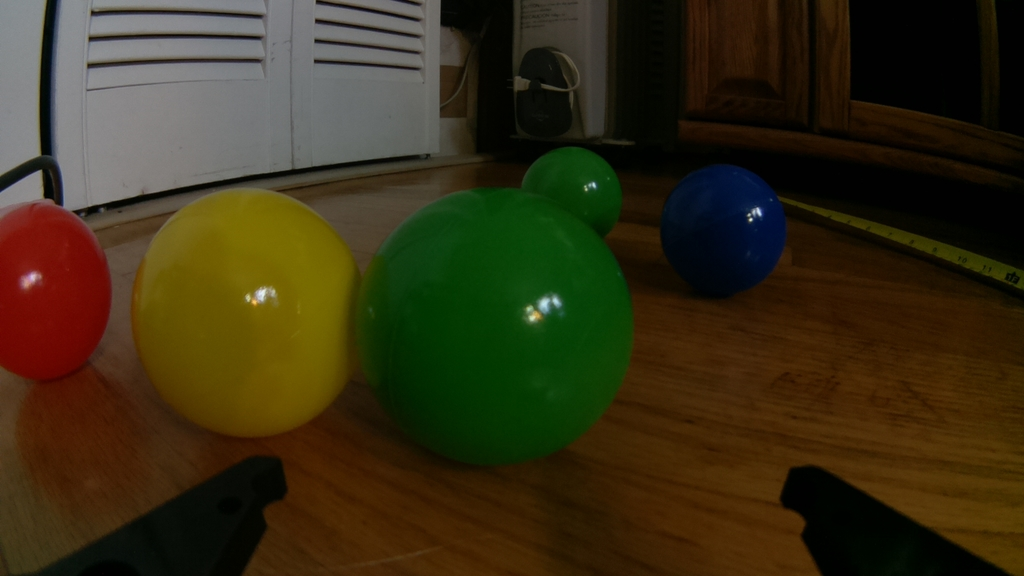ball: (0, 199, 115, 385)
